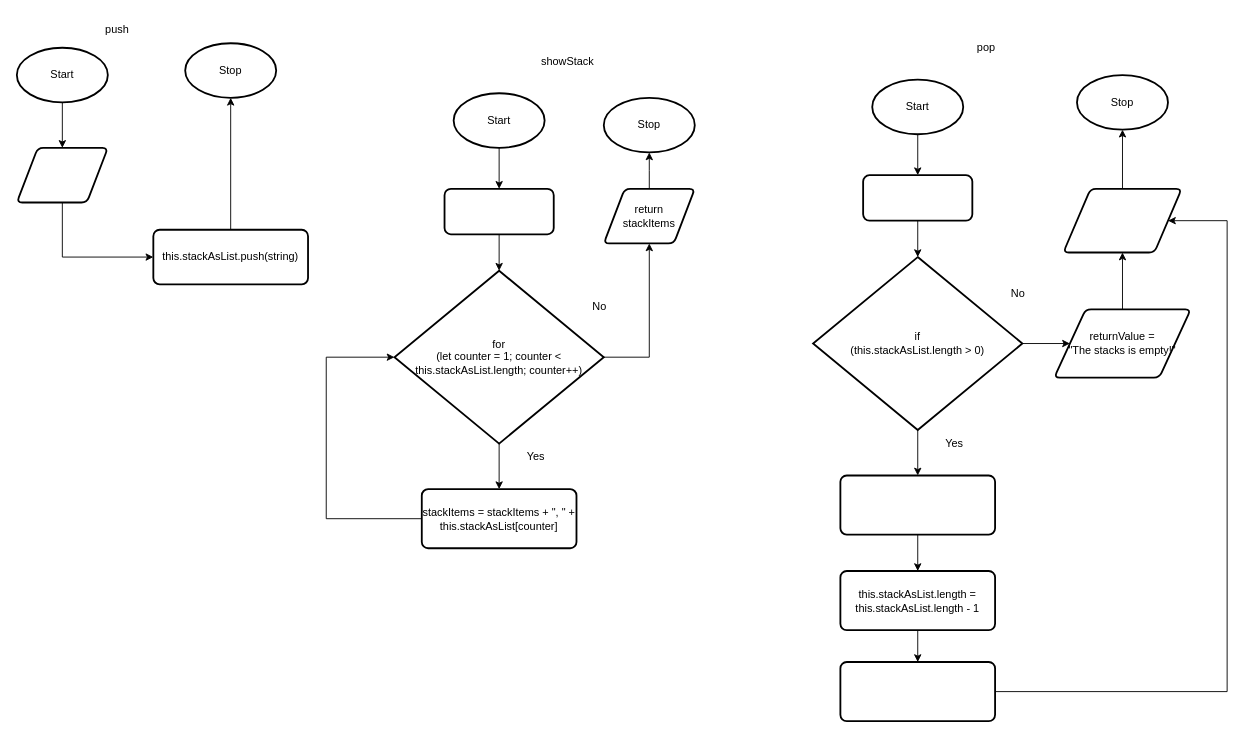
The diagram is 1250 pixels wide and 737 high, and some of its shapes have lost their labels. The centre of each missing label's shape, as x and y in pixels:
return returnValue: (1122,220)
returnValue = topItem: (917,691)
returnValue: string = "": (917,197)
Set stringPushed: (61,175)
stackItems = this.stackAsList[0]: (498,211)
topItem = this.stackAsList [this.stackAsList.length - 1]: (917,504)
